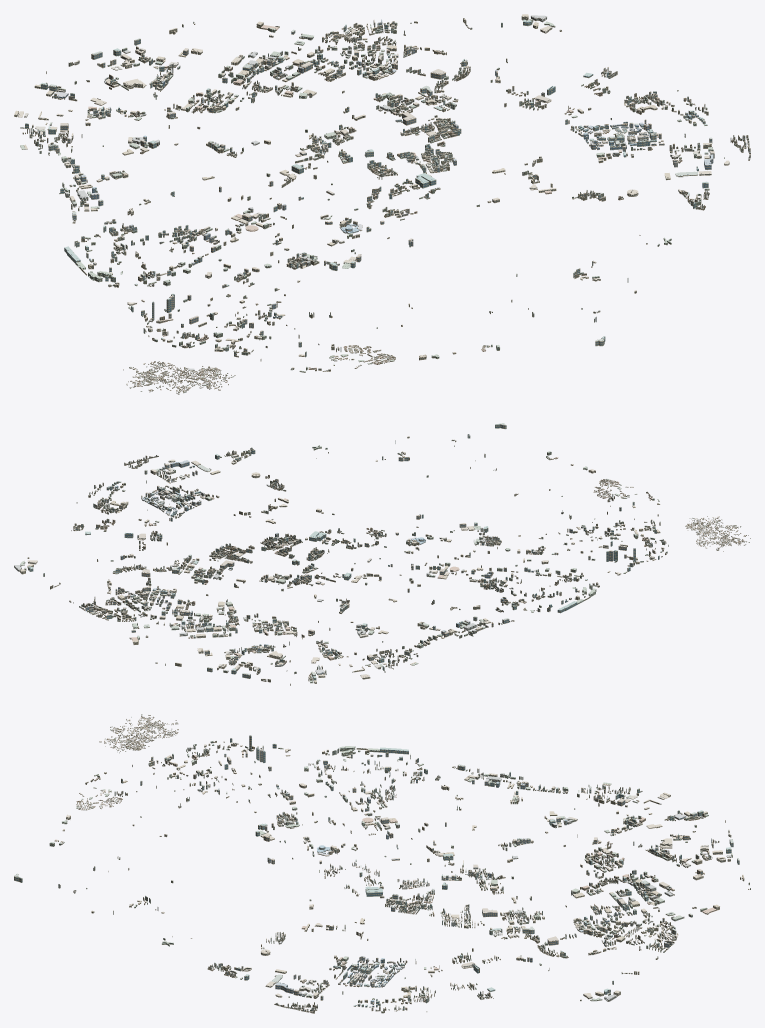
Rendered from buildings.glb.
The picture shows the model from 3 angles, top to bottom: view 1: azimuth 30°, elevation 25°; view 2: azimuth 150°, elevation 25°; view 3: azimuth 270°, elevation 25°; orthographic projection. The views are drawn at different scales.
Visible parts, largest first — view 1: block_5_0_office, block_3_5_residential; view 2: block_5_0_office, block_3_5_residential; view 3: block_5_0_office.
Part boxes in pixels (<box>): block_5_0_office: <box>583,120,661,149</box>; block_3_5_residential: <box>330,27,405,63</box>; block_5_0_office: <box>141,486,195,513</box>; block_3_5_residential: <box>96,593,158,617</box>; block_5_0_office: <box>347,963,399,987</box>.
Bounding box in the file's own units: 8631 × 213 × 8991.
Materials: 6 (2 with a texture image).
